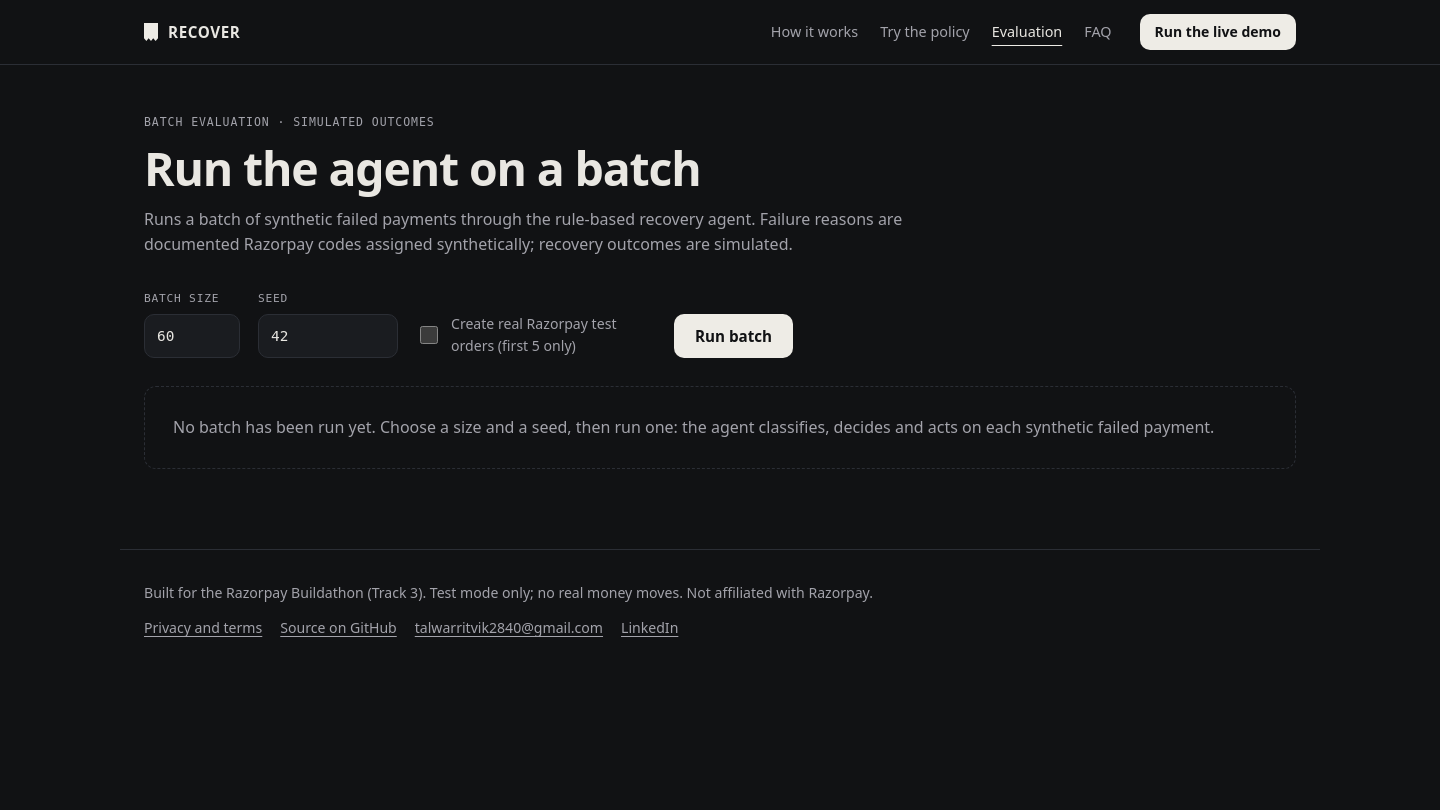
it: Dashboard › runs a batch with a session token and the chosen options
Expected: the text "No batch has been run yet" is shown, [173,416,1214,438]
Replace the text in the number field labelled "Seed" with "9": (328, 336) [258,314,398,358]
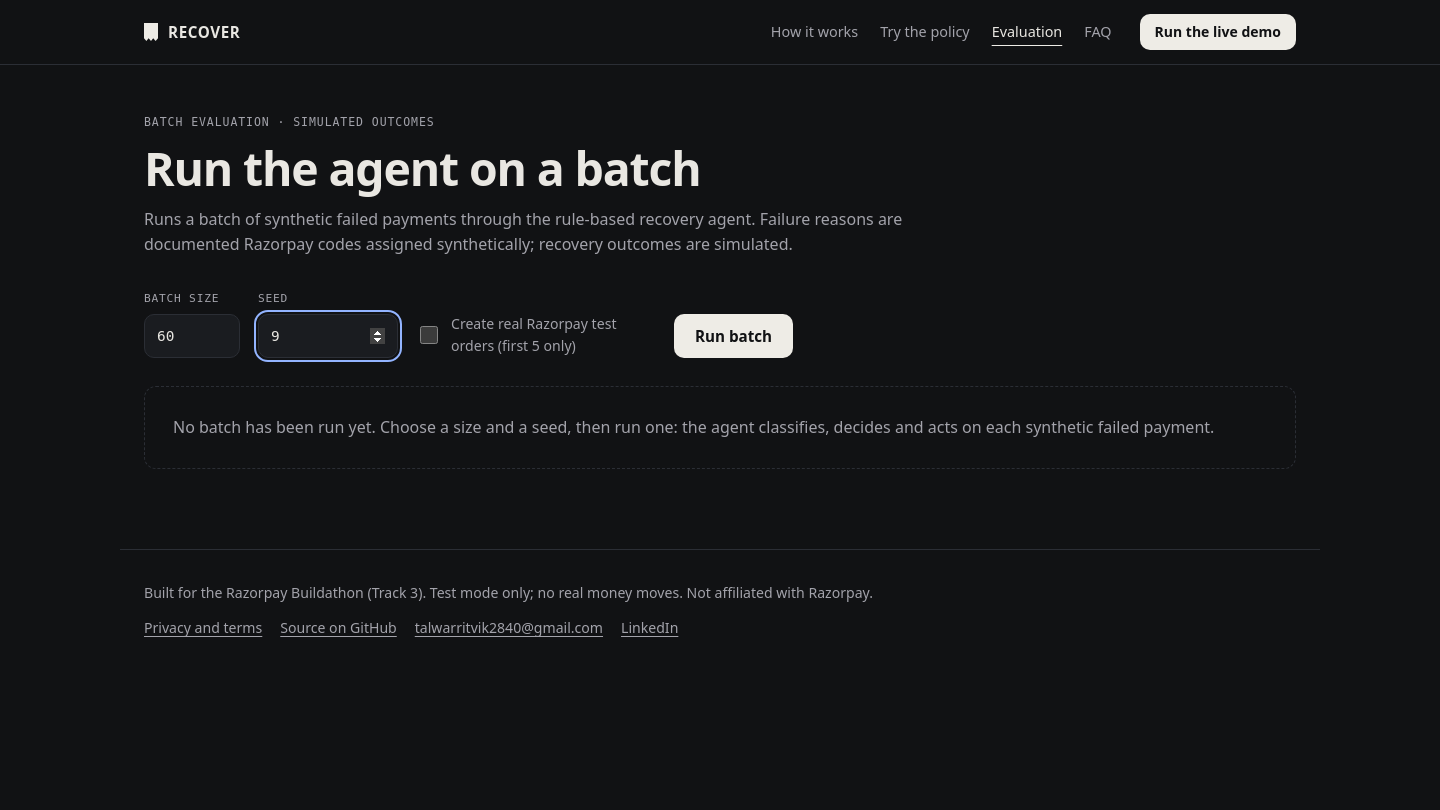
Click the button "Run batch": (734, 336) [674,314,793,358]
(page scrolled)
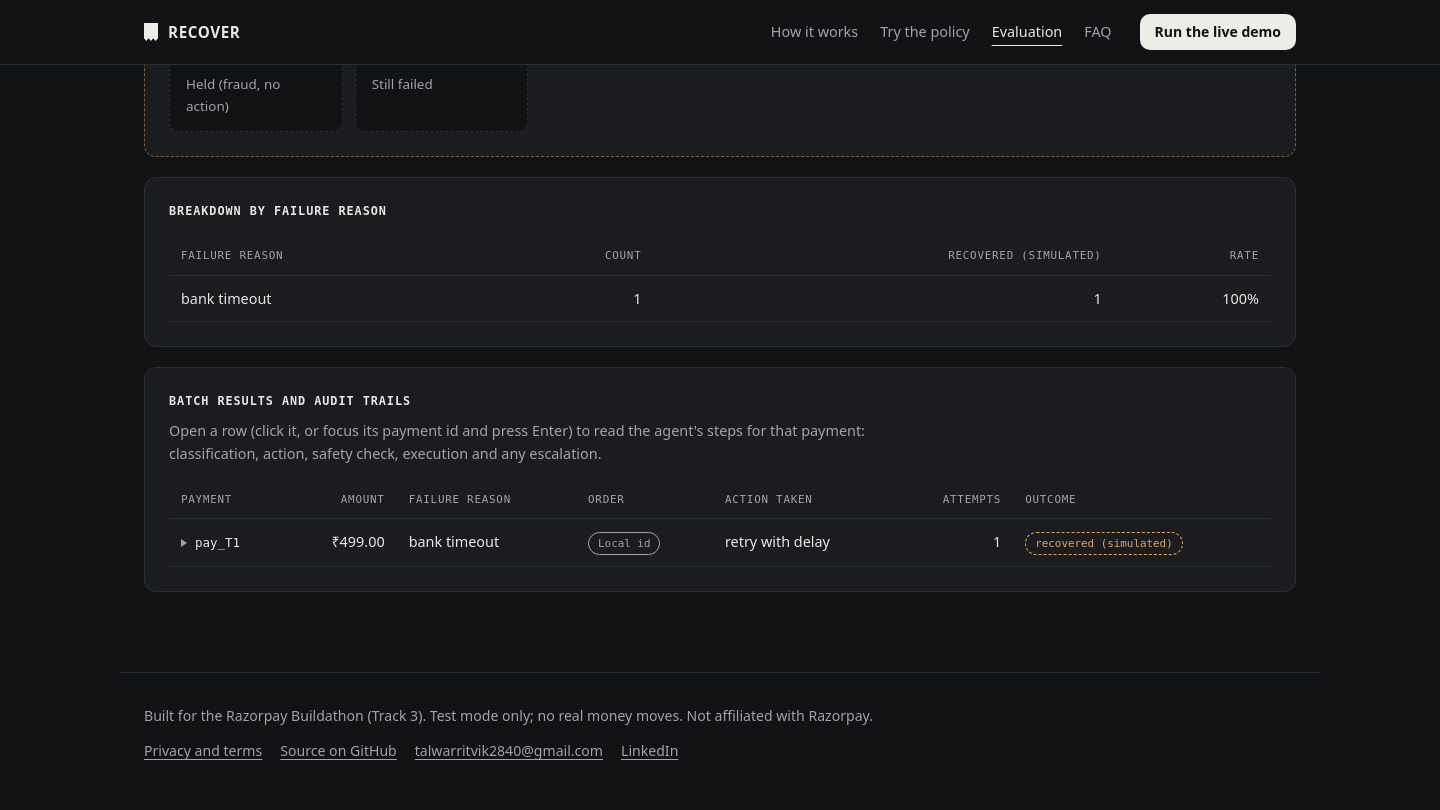
Expected: the button "pay_T1" is shown, [181,531,240,555]
